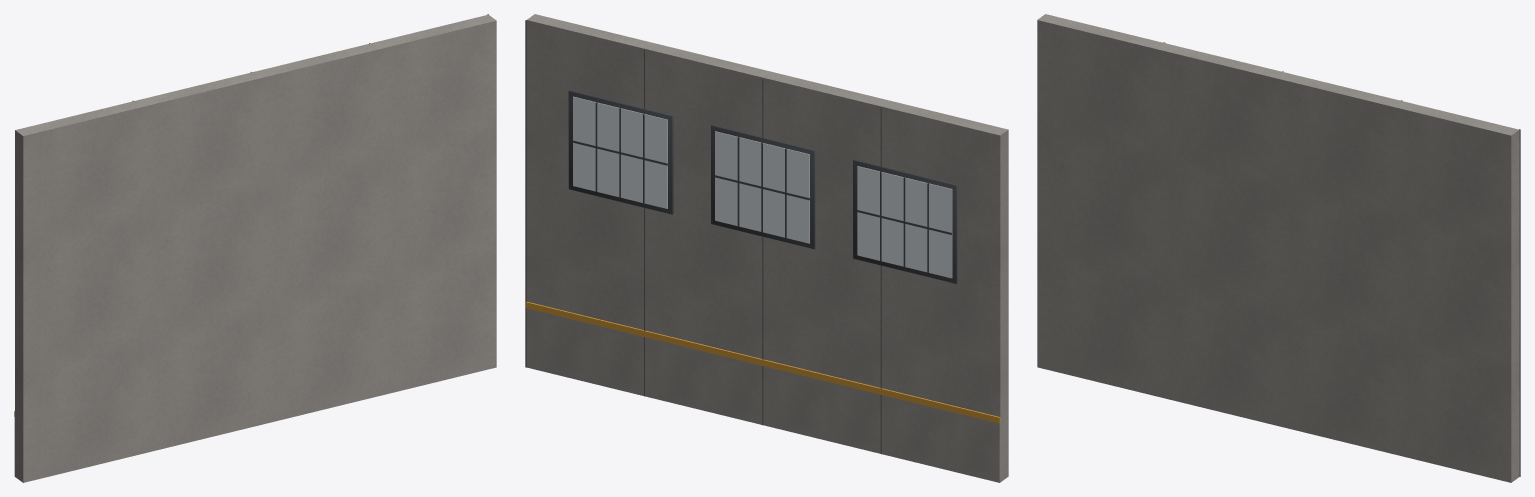
The model's file is depot_wall.fbx.
3 renders of one model, left to right at view 1: azimuth 30°, elevation 25°; view 2: azimuth 150°, elevation 25°; view 3: azimuth 330°, elevation 25°, orthographic.
Visible parts, largest first — view 1: depot_wall; view 2: depot_wall; view 3: depot_wall.
Boxes of the visible parts, x1,y1,x2,y2 form: depot_wall: (14, 14, 496, 482); depot_wall: (525, 14, 1008, 482); depot_wall: (1037, 14, 1520, 482).
Bounding box in the file's own units: 10.01 × 7 × 0.35.
